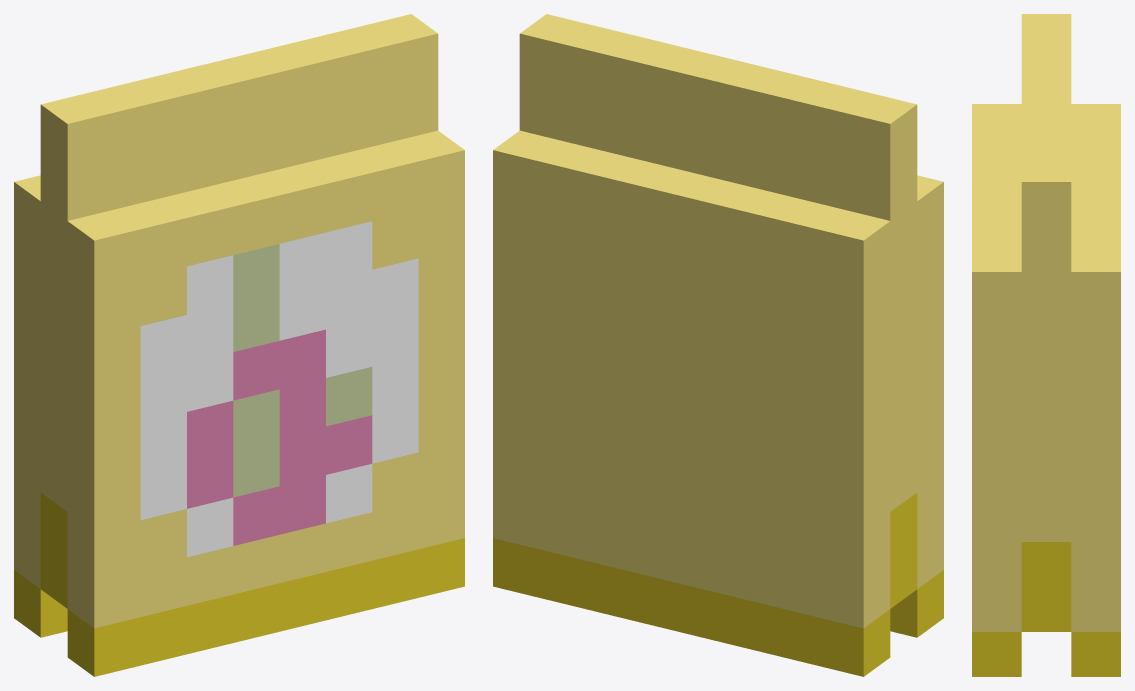
The model's file is Semillas_FrutaDragon.fbx.
The picture shows the model from 3 angles, left to right: view 1: azimuth 30°, elevation 25°; view 2: azimuth 150°, elevation 25°; view 3: azimuth 270°, elevation 25°; orthographic projection. The views are drawn at different scales.
Parts seen in each view (by area): view 1: paquete_fruta_dragon_8x11x3; view 2: paquete_fruta_dragon_8x11x3; view 3: paquete_fruta_dragon_8x11x3.
Part boxes in pixels (<box>): paquete_fruta_dragon_8x11x3: <box>14,14,464,676</box>; paquete_fruta_dragon_8x11x3: <box>493,14,943,676</box>; paquete_fruta_dragon_8x11x3: <box>972,14,1120,676</box>.
Bounding box in the file's own units: 800 × 1100 × 300.
